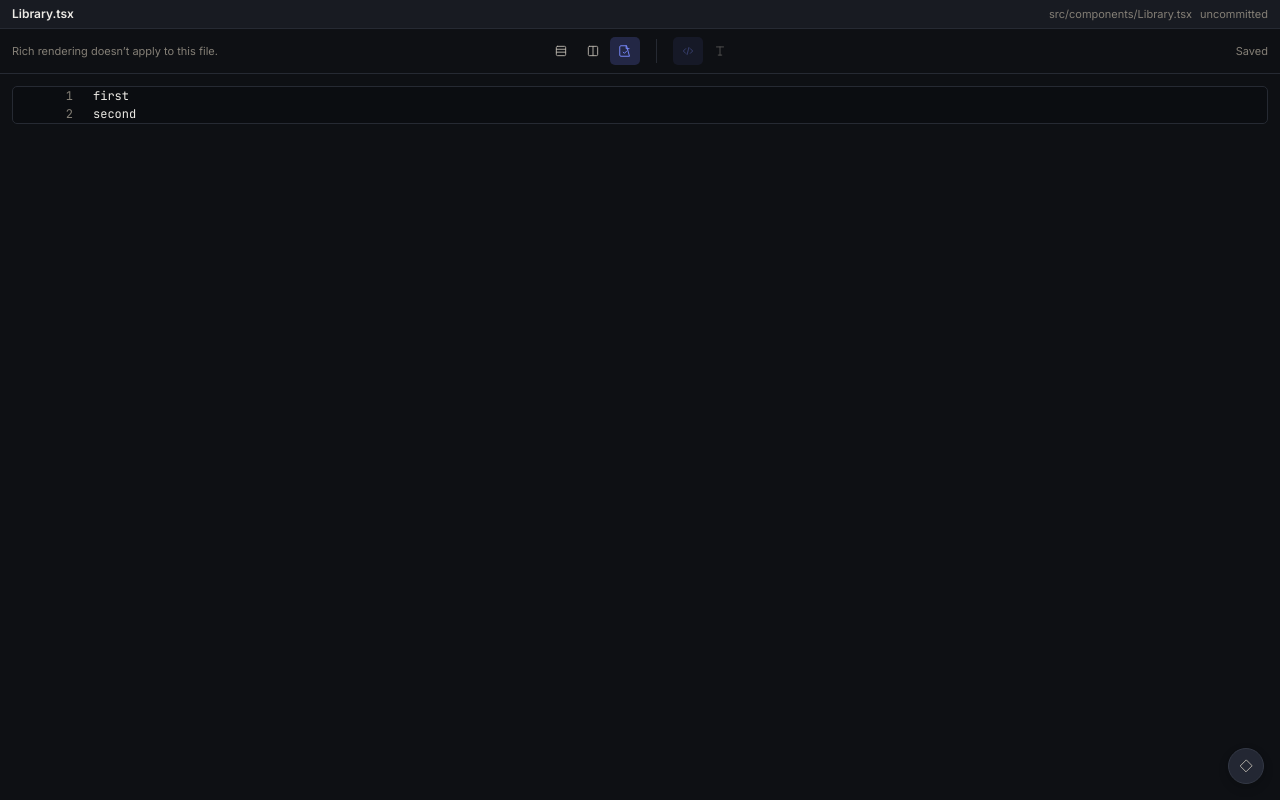
Test: Final visualization (DFV-FR-15; supersedes DFV-FR-14) › reads a file the comparison adds as the document it is, unmarked
expect the element with class "diff-line__text" is shown: met, box [66,88,129,104]
The other modes still show it as the addition it is.
Click the radio button named "Unified". click: (560, 51)
box: [546,37,576,65]
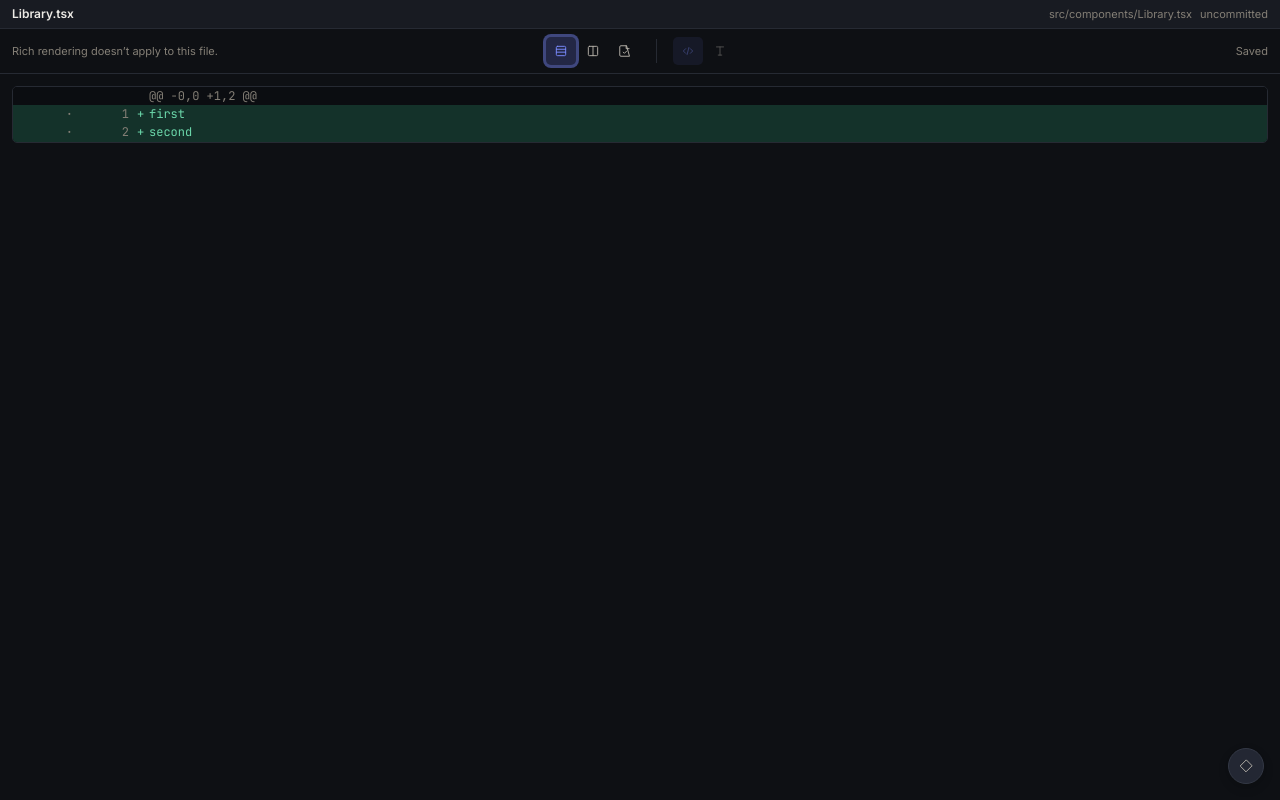
expect the element with class "diff-line__text" is shown: met, box [13,105,1267,123]
